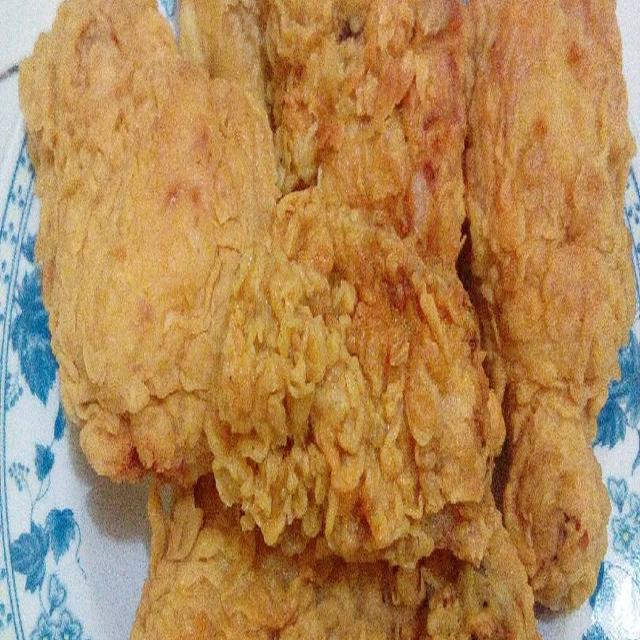Frango: (19, 0, 331, 483), (217, 35, 488, 566), (470, 12, 637, 611)
